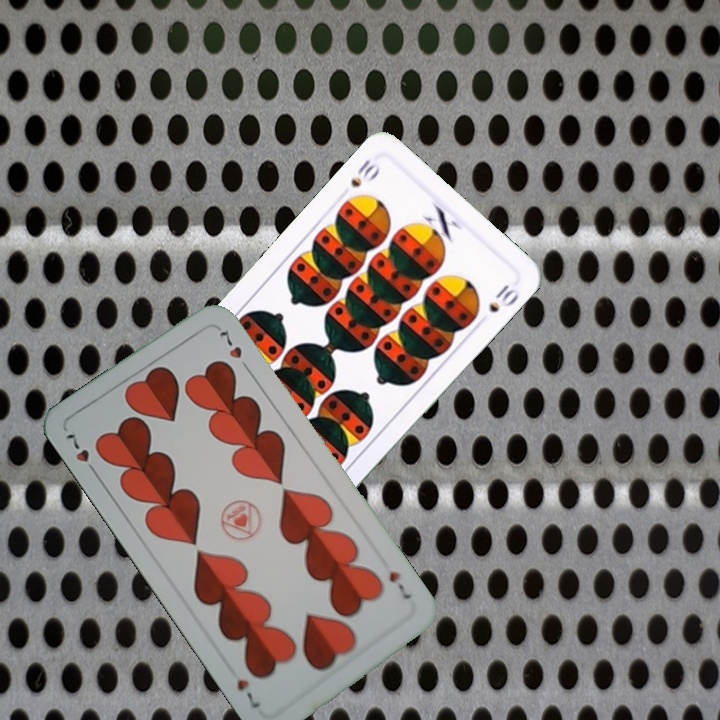H7: (61, 426, 101, 479), (385, 567, 414, 603)
S10: (346, 155, 383, 190)
